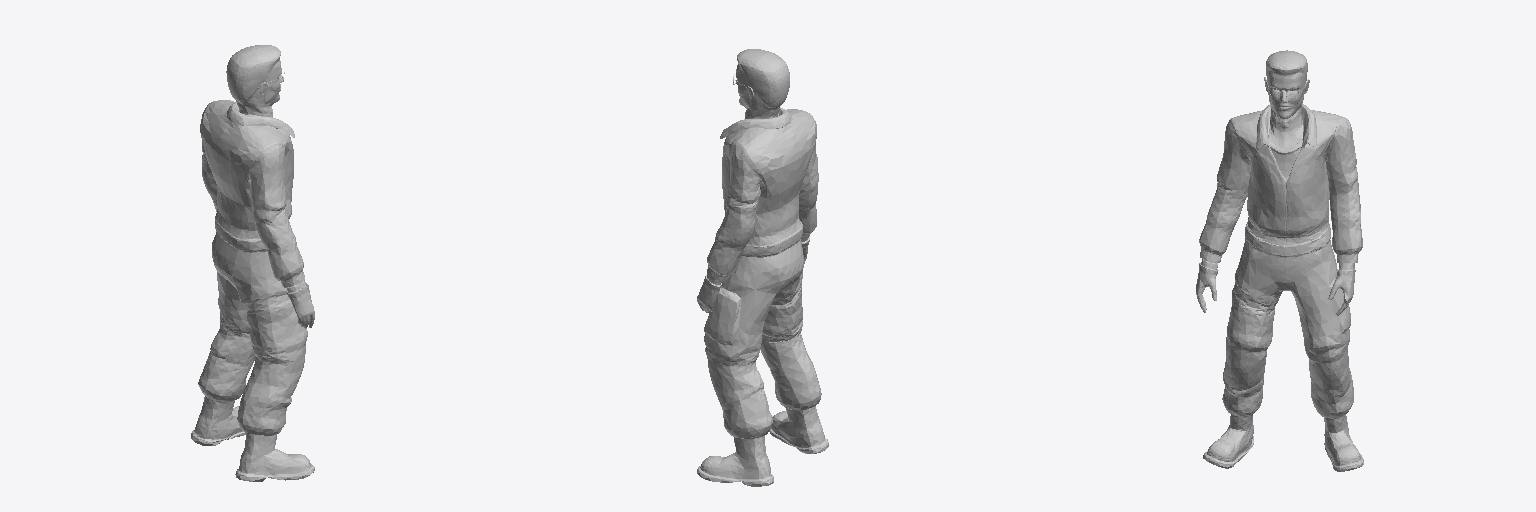
Rendered from soldier_stand01.obj.
3 renders of one model, left to right at view 1: azimuth 30°, elevation 25°; view 2: azimuth 150°, elevation 25°; view 3: azimuth 270°, elevation 25°, orthographic.
Visible parts, largest first — view 1: smdimport.000; view 2: smdimport.000; view 3: smdimport.000.
Boxes of the visible parts, <box> form: smdimport.000: <box>191,45,314,481</box>; smdimport.000: <box>697,49,828,486</box>; smdimport.000: <box>1196,50,1363,471</box>.
Size of the model in its own units: 0.4806 by 2.41 by 0.9036.